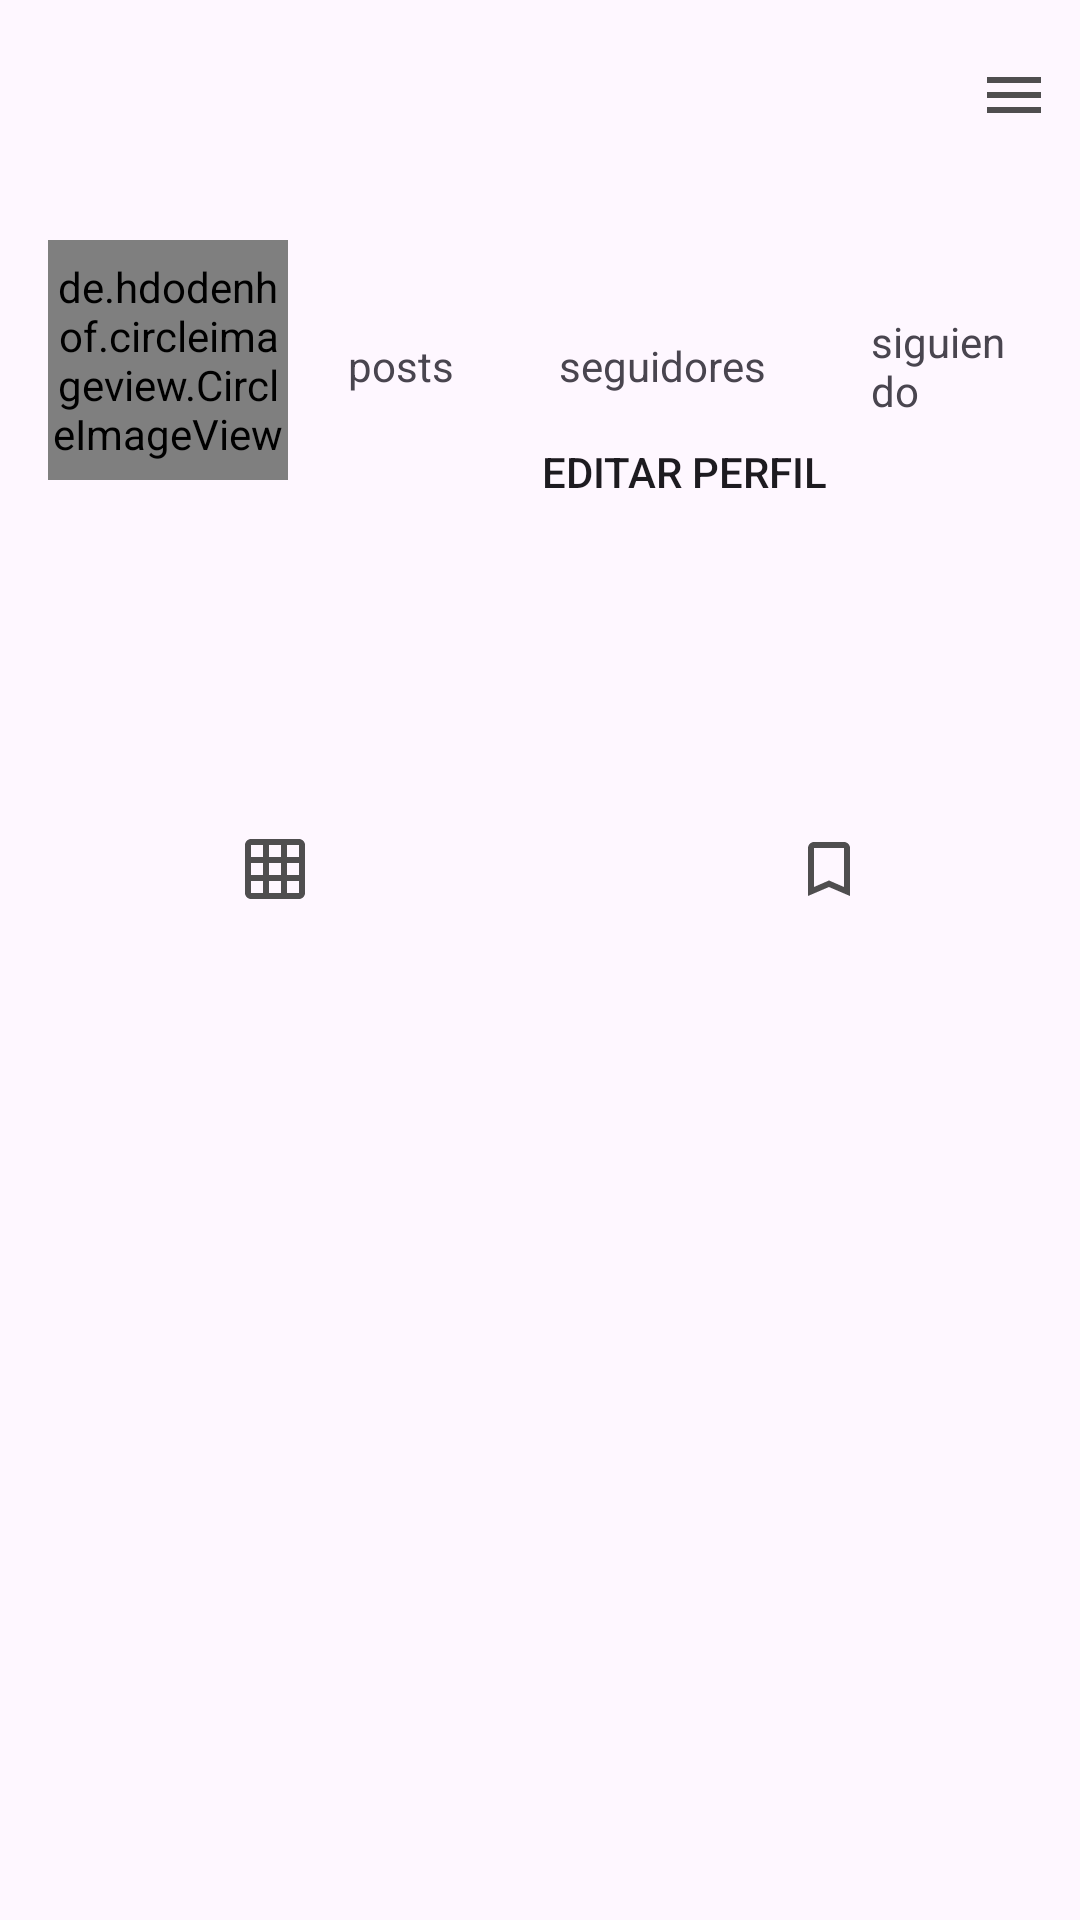

Icons on this 1080px x 1920px Android screen, each with its box as (x1, y1, x2, y2):
grid: (245, 839, 305, 899)
save: (808, 842, 850, 896)
